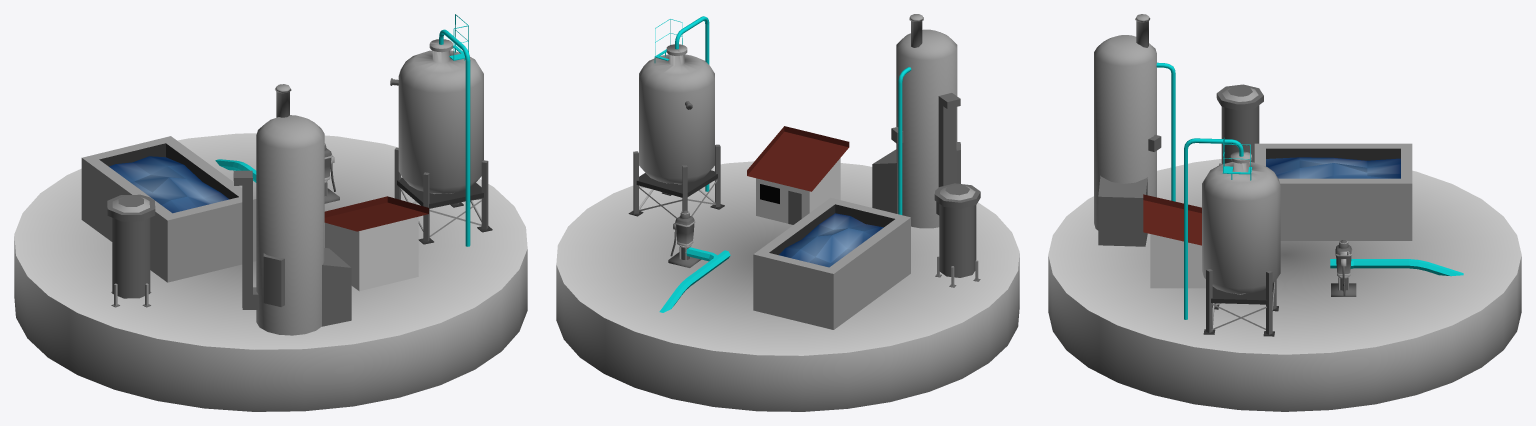
File: Purif_Generica_001_v001.glb
The picture shows the model from 3 angles, left to right: view 1: azimuth 30°, elevation 25°; view 2: azimuth 150°, elevation 25°; view 3: azimuth 270°, elevation 25°; orthographic projection. The views are drawn at different scales.
Parts seen in each view (by area): view 1: Purif_Mini3D_Generico_001_v001; view 2: Purif_Mini3D_Generico_001_v001; view 3: Purif_Mini3D_Generico_001_v001.
Part boxes in pixels (x1,y1,x2,y2): Purif_Mini3D_Generico_001_v001: (14, 14, 527, 411); Purif_Mini3D_Generico_001_v001: (556, 14, 1019, 411); Purif_Mini3D_Generico_001_v001: (1048, 14, 1521, 411).
Bounding box in the file's own units: 15 × 9.3 × 15.
